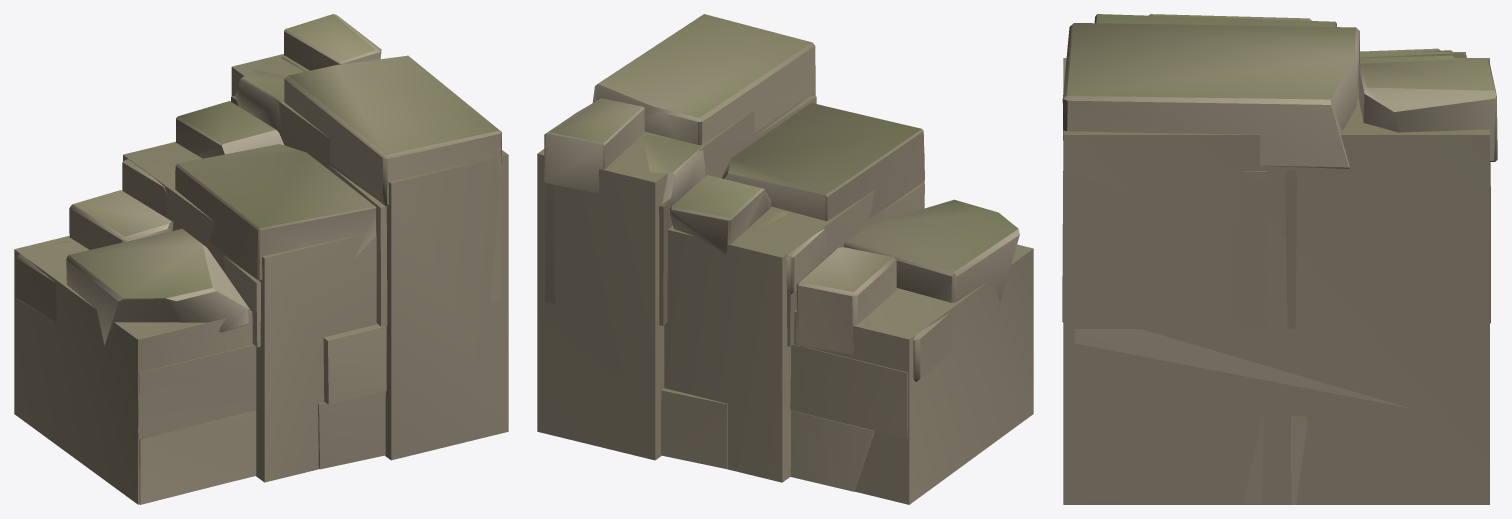
Rendered from theatre_seat_broken_0.glb.
The picture shows the model from 3 angles, left to right: view 1: azimuth 30°, elevation 25°; view 2: azimuth 150°, elevation 25°; view 3: azimuth 270°, elevation 25°; orthographic projection. The views are drawn at different scales.
Visible parts, largest first — view 1: theatre_seat_broken_0, theatre_seat_broken_0_far; view 2: theatre_seat_broken_0, theatre_seat_broken_0_far; view 3: theatre_seat_broken_0_far, theatre_seat_broken_0.
Boxes of the visible parts, x1=… form: theatre_seat_broken_0: x1=15, y1=14, x2=501, y2=504; theatre_seat_broken_0_far: x1=14, y1=54, x2=508, y2=504; theatre_seat_broken_0: x1=544, y1=14, x2=1019, y2=491; theatre_seat_broken_0_far: x1=537, y1=65, x2=1033, y2=504; theatre_seat_broken_0_far: x1=1063, y1=52, x2=1489, y2=504; theatre_seat_broken_0: x1=1062, y1=14, x2=1497, y2=504.
Size of the model in its own units: 8.57 by 6.9 by 6.72.
